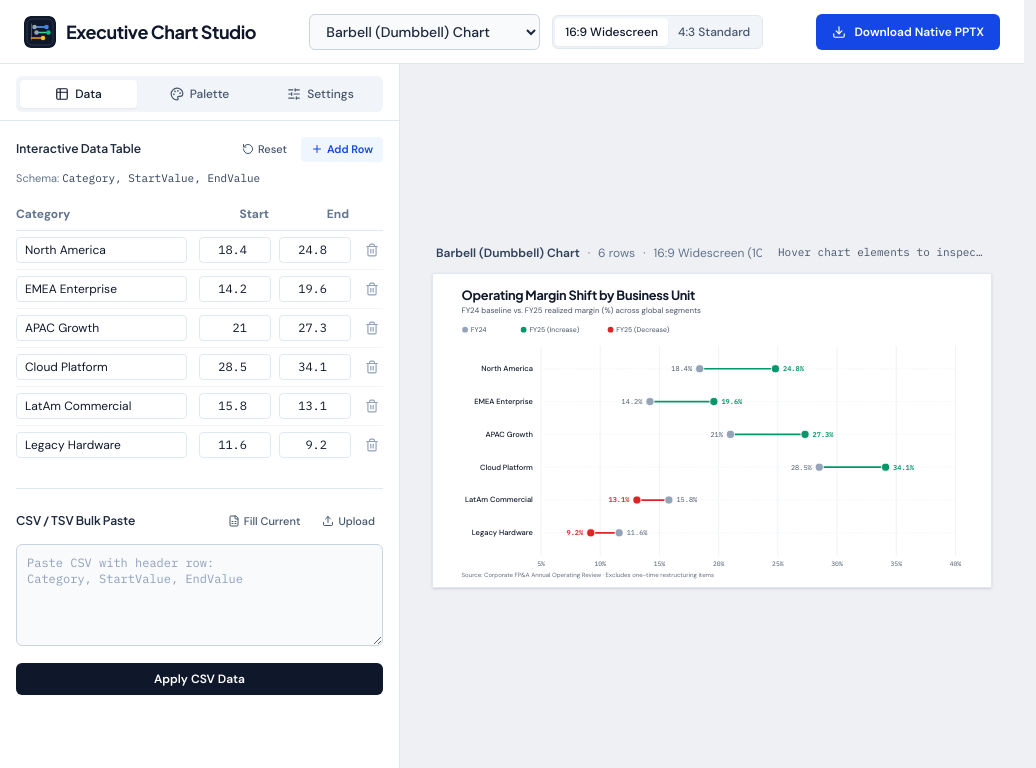
Scenario: Integration: Executive Chart Studio Workflows › toggles slide aspect ratio between 16:9 and 4:3
Click the button "4:3 Standard" at (714, 32), box [668,18,760,46]
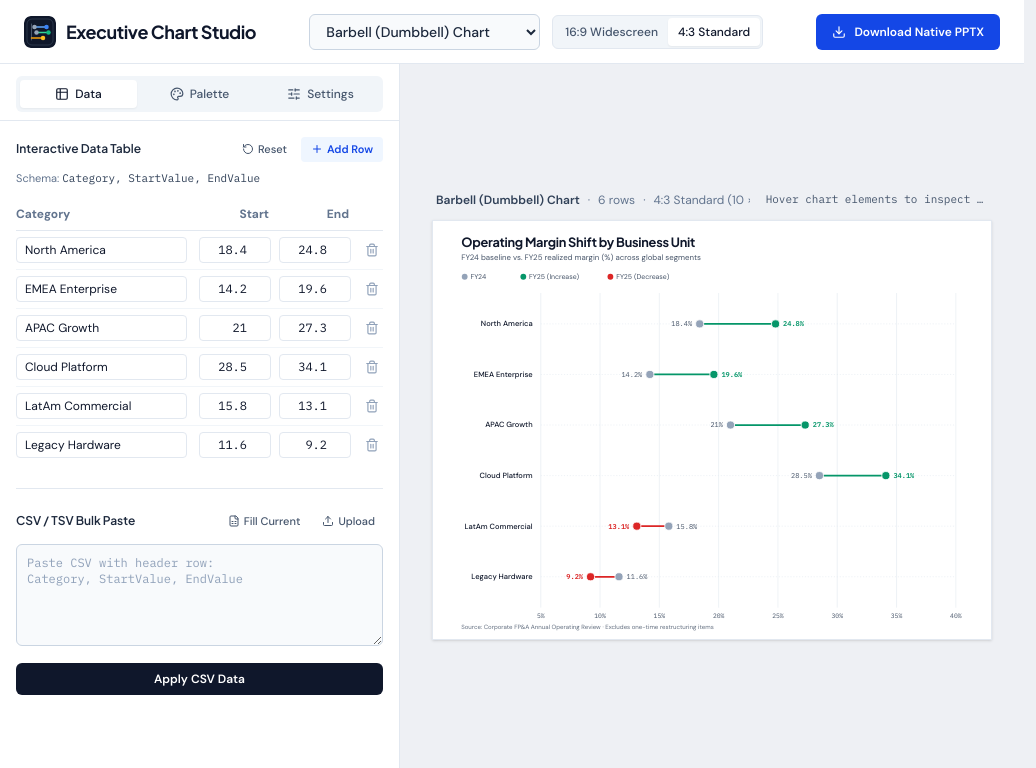
Now the element with test id "slide-canvas-frame" has attribute data-aspect-ratio="4:3", box [432,220,992,640]
